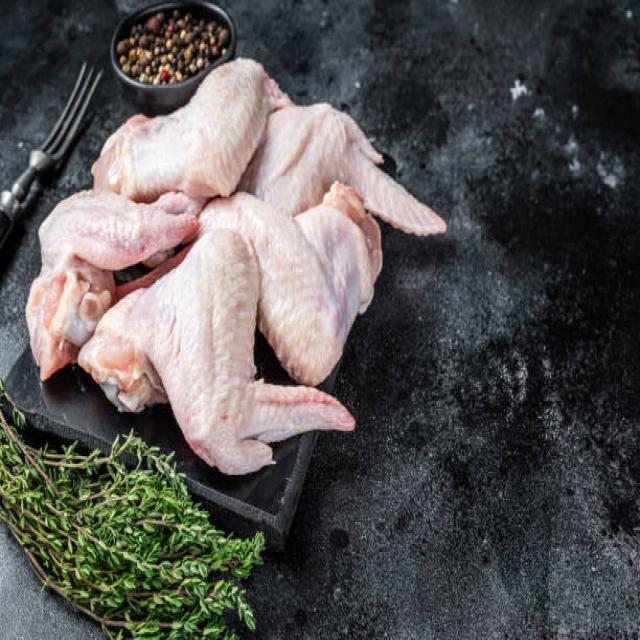Chicken Wing: (98, 231, 349, 464), (258, 100, 452, 236)
